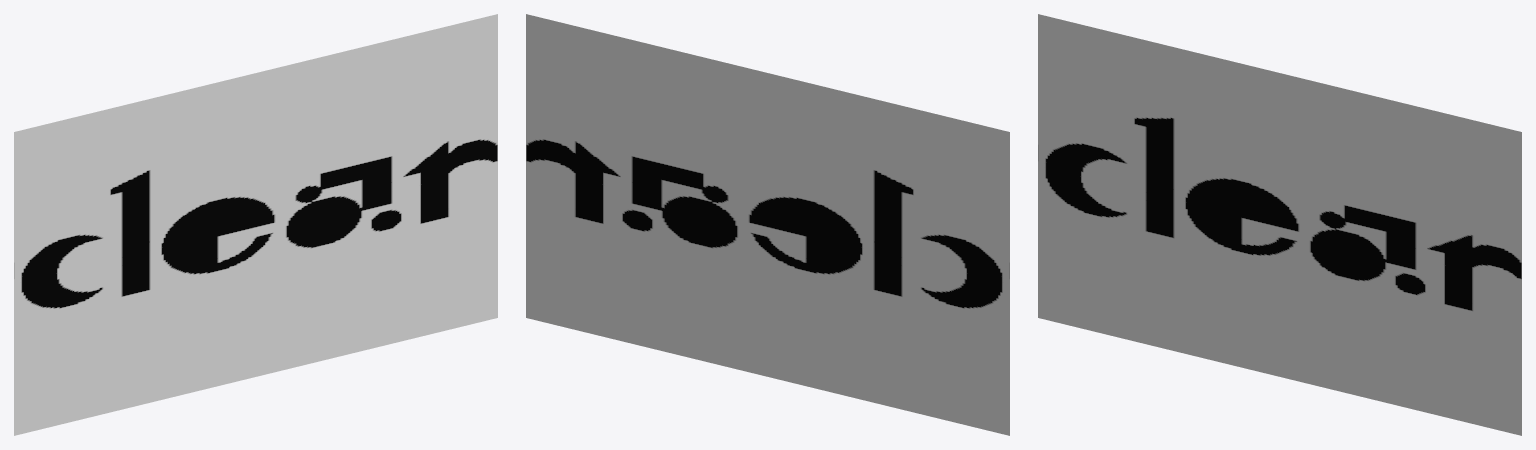
The model's file is clear.FBX.
3 renders of one model, left to right at view 1: azimuth 30°, elevation 25°; view 2: azimuth 150°, elevation 25°; view 3: azimuth 330°, elevation 25°, orthographic.
Parts seen in each view (by area): view 1: Plane001; view 2: Plane001; view 3: Plane001.
Part boxes in pixels (left/top/right/bottom): Plane001: left=14, top=14, right=497, bottom=435; Plane001: left=526, top=14, right=1009, bottom=435; Plane001: left=1038, top=14, right=1521, bottom=435.
Bounding box in the file's own units: 5 × 3 × 5.84e-07.
Materials: 1 (1 with a texture image).
